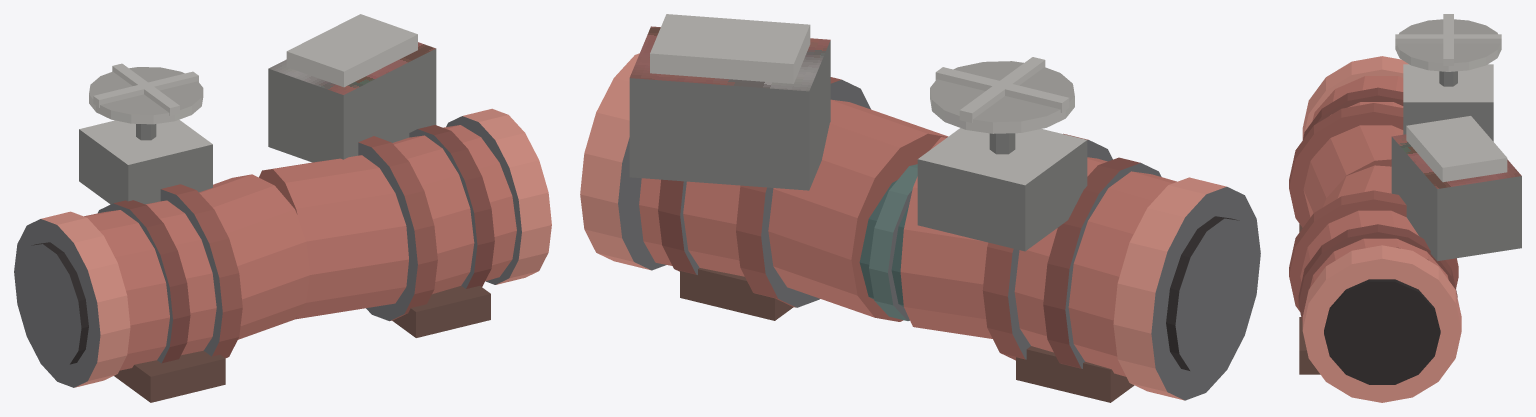
Rendered from Building_AncientPipelineSection.glb.
3 renders of one model, left to right at view 1: azimuth 30°, elevation 25°; view 2: azimuth 150°, elevation 25°; view 3: azimuth 270°, elevation 25°, orthographic. The views are drawn at different scales.
Visible parts, largest first — view 1: AncientPipelineSection; view 2: AncientPipelineSection; view 3: AncientPipelineSection.
Part boxes in pixels (left/top/right/bottom): AncientPipelineSection: left=14, top=14, right=551, bottom=402; AncientPipelineSection: left=580, top=14, right=1260, bottom=402; AncientPipelineSection: left=1289, top=14, right=1521, bottom=402.
Bounding box in the file's own units: 1.86 × 0.935 × 0.8779.
1 material, 1 textured.
